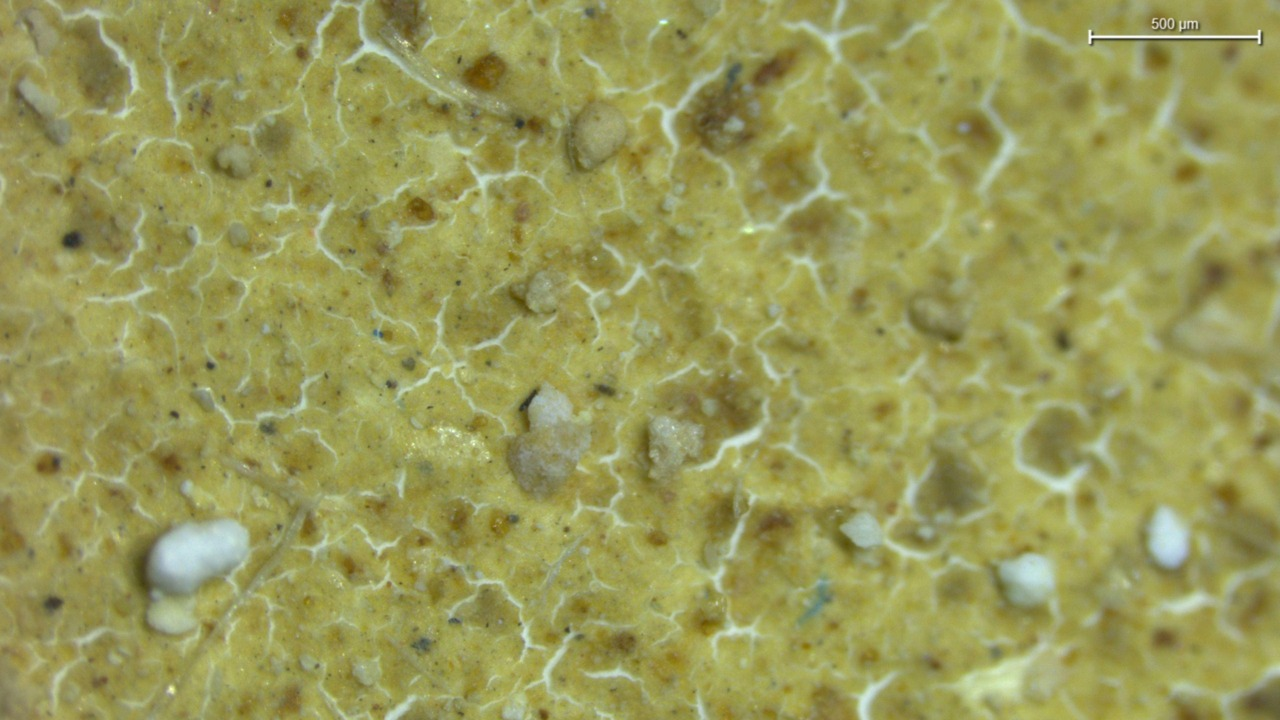microplastic_fragment: (507, 383, 591, 496), (145, 518, 248, 595), (648, 415, 704, 485), (525, 270, 563, 314)
